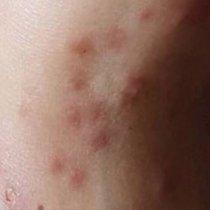Fleas: (67, 31, 96, 61), (83, 124, 114, 151), (80, 97, 100, 123), (67, 66, 87, 91), (65, 166, 86, 189), (115, 87, 139, 107), (103, 24, 123, 47), (123, 72, 144, 90), (67, 109, 83, 128), (50, 158, 65, 173), (139, 8, 153, 21)
